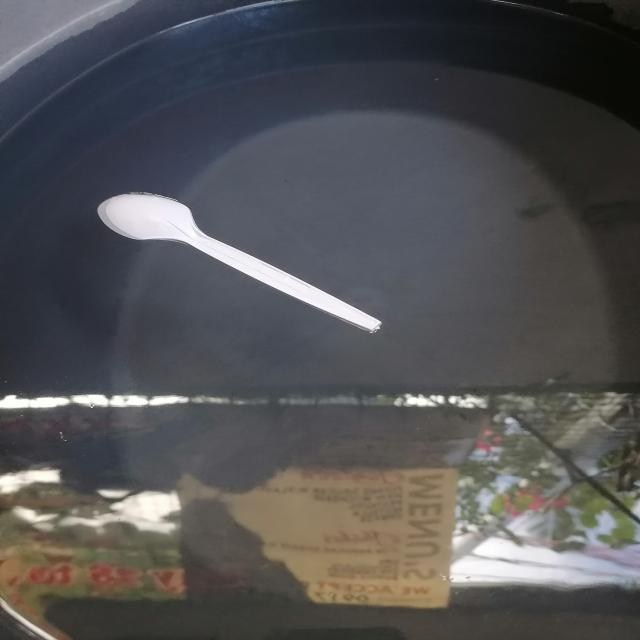Plastic Spoon: (73, 170, 403, 342)
